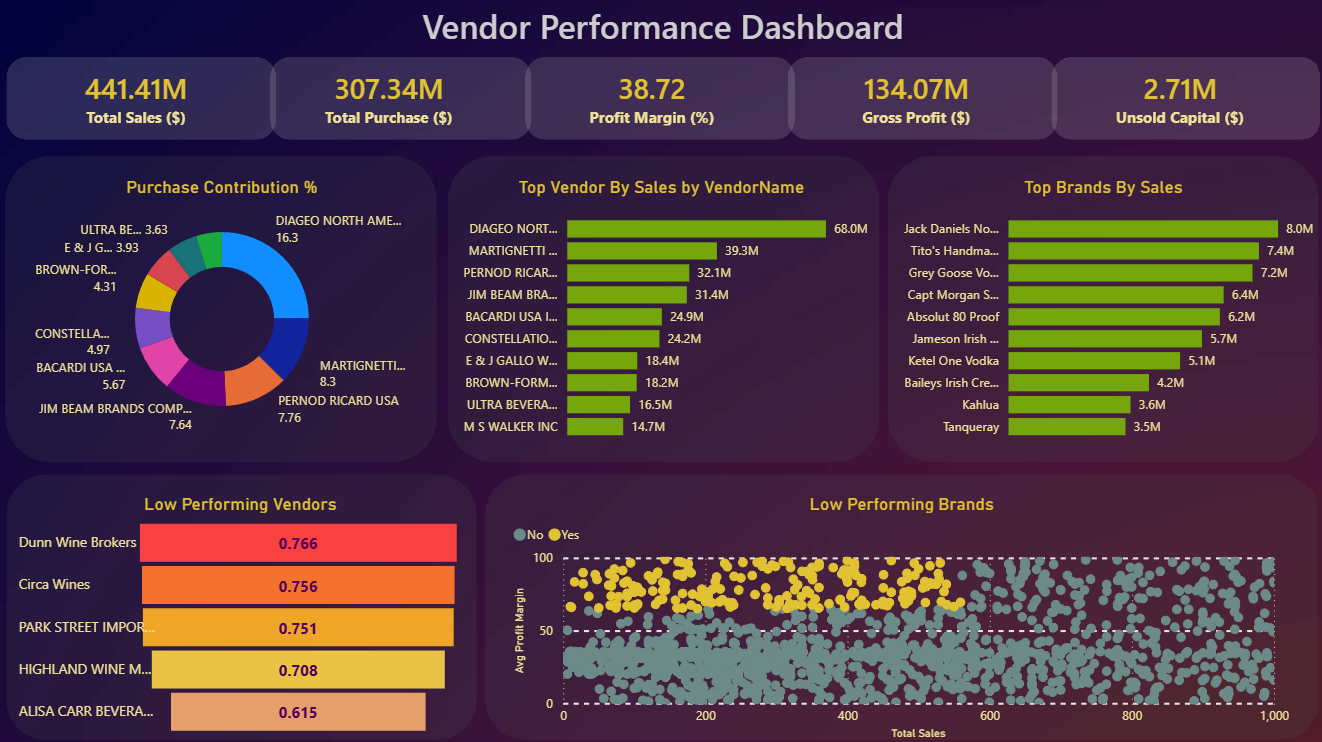

The page's visual inventory and layout, read from the dashboard file:
{"tool":"powerbi","page":{"name":"Page 1","canvas":[1280,720],"ordinal":0},"visuals":[{"type":"shape","box":[1014.1,57.2,260.7,80.3],"z":0,"group":"g11"},{"type":"group","id":"g1","title":"Group 4","box":[5.3,152.3,417.2,296.4],"z":0,"group":"g8"},{"type":"group","id":"g2","title":"Group 5","box":[857.4,152.3,417.2,296.4],"z":0,"group":"g6"},{"type":"group","id":"g3","title":"Group 4","box":[5.5,459.7,454.2,256.6],"z":0,"group":"g10"},{"type":"shape","box":[759.9,57.2,260.7,80.3],"z":1000,"group":"g11"},{"type":"group","id":"g4","title":"Group 6","box":[430.7,152.3,418.5,296.4],"z":1000,"group":"g8"},{"type":"barChart","title":"Top Brands By Sales","fields":{"Y":["Sum(vendor_sales_summary.TotalSalesDollars)"],"Category":["vendor_sales_summary.Description"]},"box":[857.4,172.9,417.2,263.5],"z":1000,"group":"g6"},{"type":"funnel","title":"Low Performing Vendors","fields":{"Y":["Avg(LowTurnoverVendor.AvgStockTurnover)"],"Category":["LowTurnoverVendor.VendorName"]},"box":[12.4,477.5,437.7,238.8],"z":1000,"group":"g10"},{"type":"group","id":"g5","title":"Group 4","box":[467.9,459.7,805.5,256.6],"z":1500},{"type":"shape","box":[505.7,57.2,260.7,80.3],"z":2000,"group":"g11"},{"type":"group","id":"g6","title":"Group 7","box":[857.4,152.3,417.2,296.4],"z":2000,"group":"g8"},{"type":"scatterChart","title":"Low Performing Brands","fields":{"Category":["BrandPerformance.Description"],"X":["Sum(BrandPerformance.TotalSales)"],"Y":["Avg(BrandPerformance.AvgProfitMargin)"],"Series":["BrandPerformance.TargetBrand"]},"box":[491.3,477.5,758.8,242.9],"z":2000},{"type":"shape","box":[259.7,57.2,252.5,80.3],"z":3000,"group":"g11"},{"type":"group","id":"g7","title":"Group 3","box":[5.5,53.5,1269.3,87.8],"z":4000},{"type":"shape","box":[5.5,57.2,260.7,80.3],"z":4000,"group":"g11"},{"type":"shape","box":[857.4,152.3,417.2,296.4],"z":4000,"group":"g2"},{"type":"shape","box":[5.3,152.3,417.2,296.4],"z":4500,"group":"g15"},{"type":"shape","box":[432.1,152.3,417.2,296.4],"z":4500,"group":"g16"},{"type":"shape","box":[5.5,459.7,454.2,256.6],"z":4500,"group":"g13"},{"type":"shape","box":[467.9,459.7,805.5,256.6],"z":4500,"group":"g14"},{"type":"group","id":"g8","title":"Group 8","box":[5.3,152.3,1269.3,296.4],"z":5000},{"type":"group","id":"g9","title":"Group 4","box":[432.1,152.3,417.2,296.4],"z":6000,"group":"g4"},{"type":"group","id":"g10","title":"Group 9","box":[5.5,459.7,454.2,256.6],"z":6001},{"type":"textbox","box":[6,0,1268,53.1],"z":6002},{"type":"barChart","fields":{"Y":["Sum(vendor_sales_summary.TotalSalesDollars)"],"Category":["vendor_sales_summary.VendorName"]},"box":[430.7,172.9,415.8,263.5],"z":8000,"group":"g4"},{"type":"group","id":"g11","title":"Group 1","box":[5.5,57.2,1269.3,80.3],"z":15001,"group":"g7"},{"type":"cardVisual","fields":{"Data":["Sum(vendor_sales_summary.TotalPurchaseDollars)"]},"box":[246,53.5,256.6,87.8],"z":15501,"group":"g12"},{"type":"cardVisual","fields":{"Data":["Sum(vendor_sales_summary.GrossProfit)"]},"box":[755.8,53.5,256.6,87.8],"z":16001,"group":"g12"},{"type":"cardVisual","fields":{"Data":["Avg(vendor_sales_summary.ProfitMargin)"]},"box":[500.2,53.5,258,87.8],"z":16501,"group":"g12"},{"type":"cardVisual","fields":{"Data":["Sum(vendor_sales_summary.UnsoldCapital)"]},"box":[1010,53.5,256.6,87.8],"z":17001,"group":"g12"},{"type":"cardVisual","fields":{"Data":["Sum(vendor_sales_summary.TotalSalesDollars)"]},"box":[12.4,53.5,236,87.8],"z":17501,"group":"g12"},{"type":"group","id":"g12","title":"Group 2","box":[12.4,53.5,1254.2,87.8],"z":17502,"group":"g7"},{"type":"group","id":"g13","title":"Group 5","box":[5.5,459.7,454.2,256.6],"z":17505,"group":"g3"},{"type":"group","id":"g14","title":"Group 5","box":[467.9,459.7,805.5,256.6],"z":17505,"group":"g5"},{"type":"donutChart","title":"Purchase Contribution % ","fields":{"Y":["Sum(PurchaseContribution.PurchaseContribution%)"],"Category":["PurchaseContribution.VendorName"]},"box":[29.1,172.7,370.8,254.2],"z":18003,"group":"g15"},{"type":"group","id":"g15","title":"Group 5","box":[5.3,152.3,417.2,296.4],"z":18005,"group":"g1"},{"type":"group","id":"g16","title":"Group 5","box":[432.1,152.3,417.2,296.4],"z":18005,"group":"g9"}]}

Visuals, with their boxes in screenshot pixels (x1, y1, x2, y2), scaled from the page's 1280x720 canvas onto the 1322x742 screenshot:
shape: 1047, 59, 1317, 142
"Group 4" group: 5, 157, 436, 462
"Group 5" group: 886, 157, 1316, 462
"Group 4" group: 6, 474, 475, 738
shape: 785, 59, 1054, 142
"Group 6" group: 445, 157, 877, 462
"Top Brands By Sales" barChart: 886, 178, 1316, 450
"Low Performing Vendors" funnel: 13, 492, 465, 738
"Group 4" group: 483, 474, 1315, 738
shape: 522, 59, 792, 142
"Group 7" group: 886, 157, 1316, 462
"Low Performing Brands" scatterChart: 507, 492, 1291, 741
shape: 268, 59, 529, 142
"Group 3" group: 6, 55, 1317, 146
shape: 6, 59, 275, 142
shape: 886, 157, 1316, 462
shape: 5, 157, 436, 462
shape: 446, 157, 877, 462
shape: 6, 474, 475, 738
shape: 483, 474, 1315, 738
"Group 8" group: 5, 157, 1316, 462
"Group 4" group: 446, 157, 877, 462
"Group 9" group: 6, 474, 475, 738
textbox: 6, 0, 1316, 55
barChart - Sum(vendor_sales_summary.TotalSalesDollars) x vendor_sales_summary.VendorName: 445, 178, 874, 450
"Group 1" group: 6, 59, 1317, 142
cardVisual - Sum(vendor_sales_summary.TotalPurchaseDollars): 254, 55, 519, 146
cardVisual - Sum(vendor_sales_summary.GrossProfit): 781, 55, 1046, 146
cardVisual - Avg(vendor_sales_summary.ProfitMargin): 517, 55, 783, 146
cardVisual - Sum(vendor_sales_summary.UnsoldCapital): 1043, 55, 1308, 146
cardVisual - Sum(vendor_sales_summary.TotalSalesDollars): 13, 55, 257, 146
"Group 2" group: 13, 55, 1308, 146
"Group 5" group: 6, 474, 475, 738
"Group 5" group: 483, 474, 1315, 738
"Purchase Contribution % " donutChart: 30, 178, 413, 440
"Group 5" group: 5, 157, 436, 462
"Group 5" group: 446, 157, 877, 462
